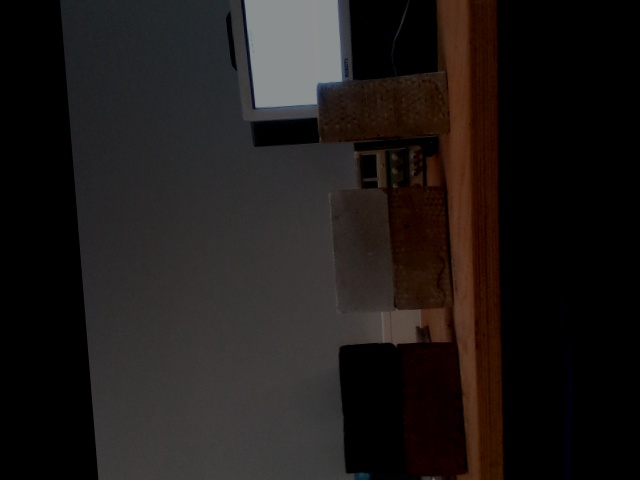brick: (396, 339, 468, 476), (317, 73, 452, 145), (330, 186, 396, 314), (339, 342, 402, 473), (390, 186, 455, 308)
